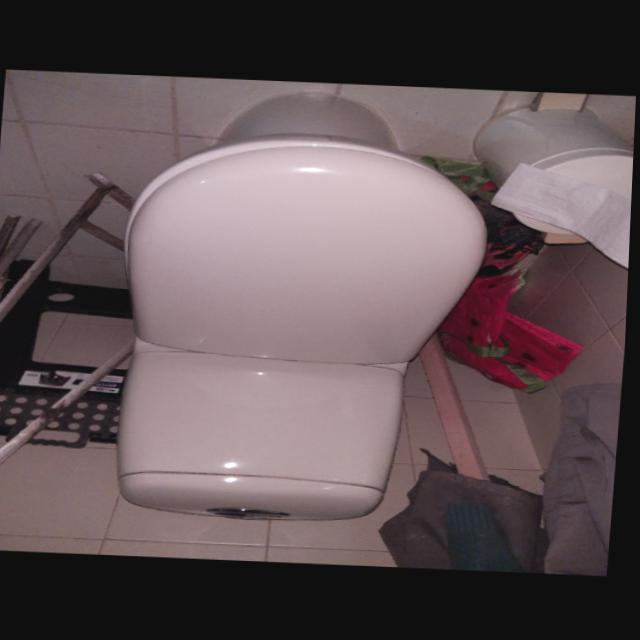toilet: (107, 85, 500, 530)
